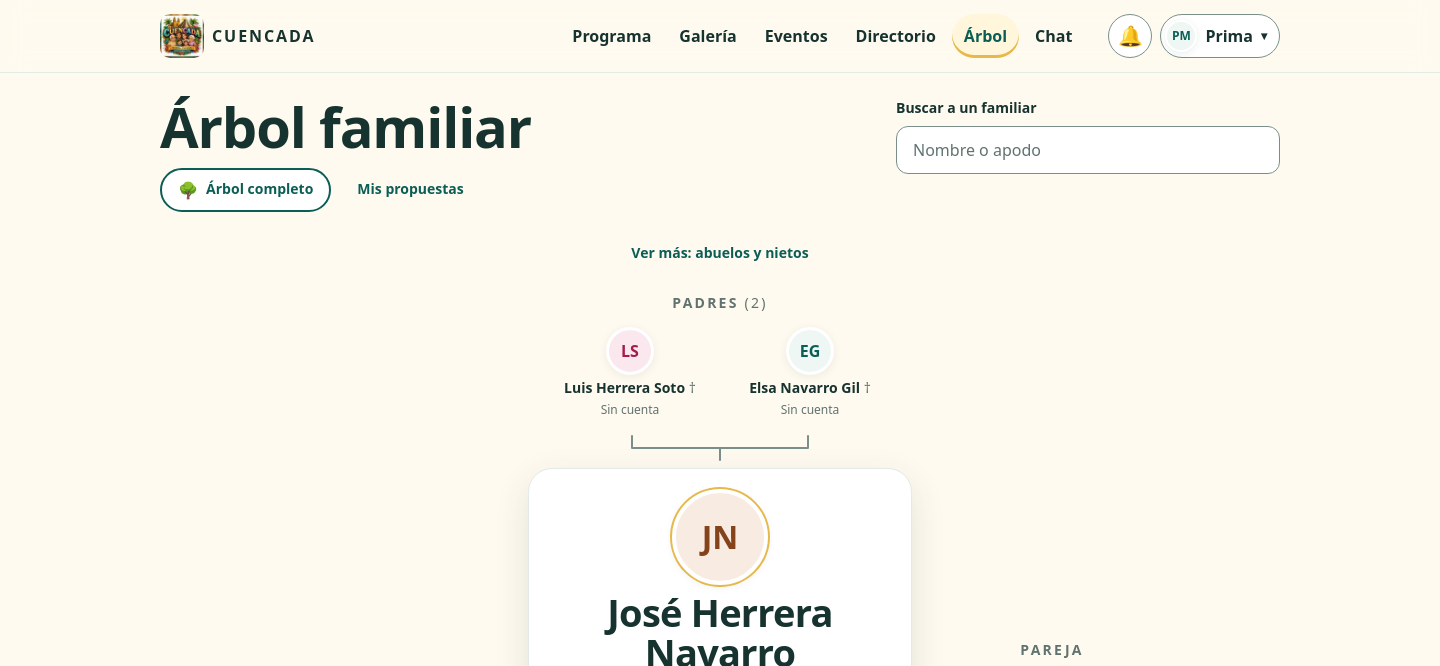
Test case: FamilyTreePage › re-centres on a tapped person, updates the URL and records the breadcrumb
Click the button with aria-label "Ver a Luis Herrera Soto, ya falleció": (630,373) [544, 318, 716, 428]
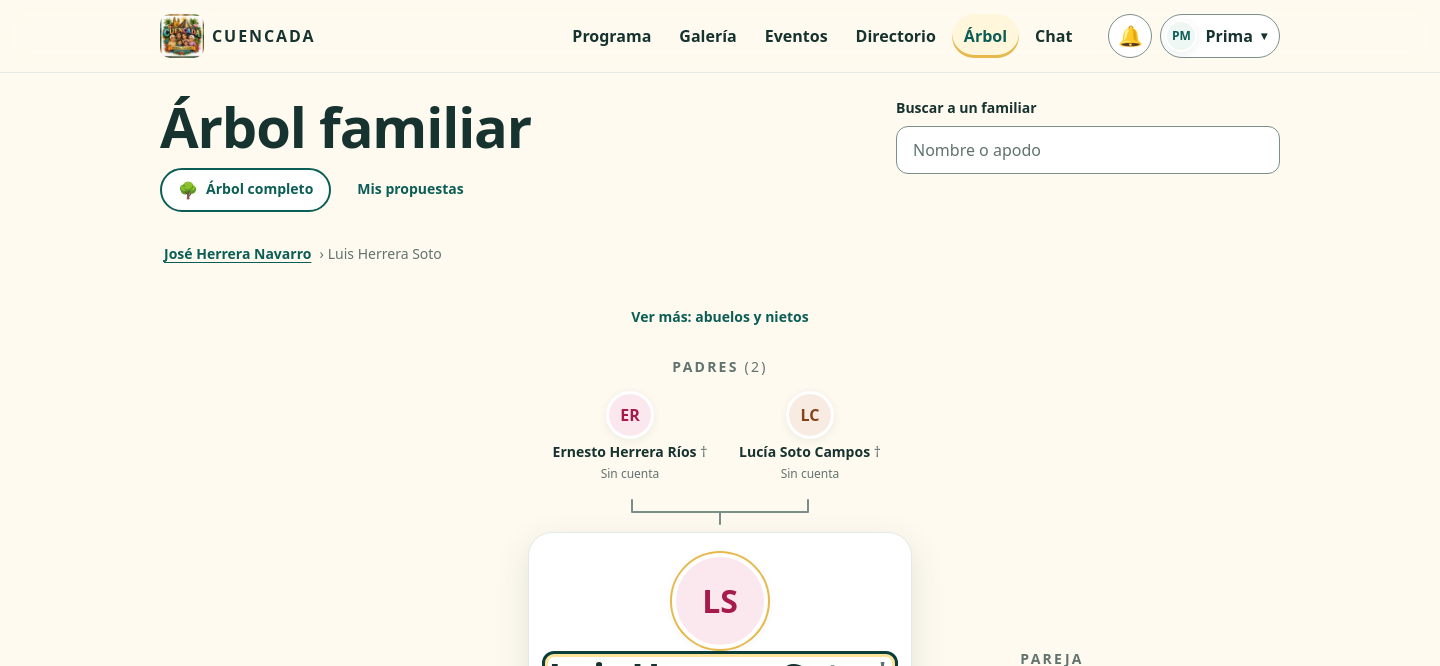
expect the button "José Herrera Navarro" is shown: met, box [160, 232, 315, 276]
